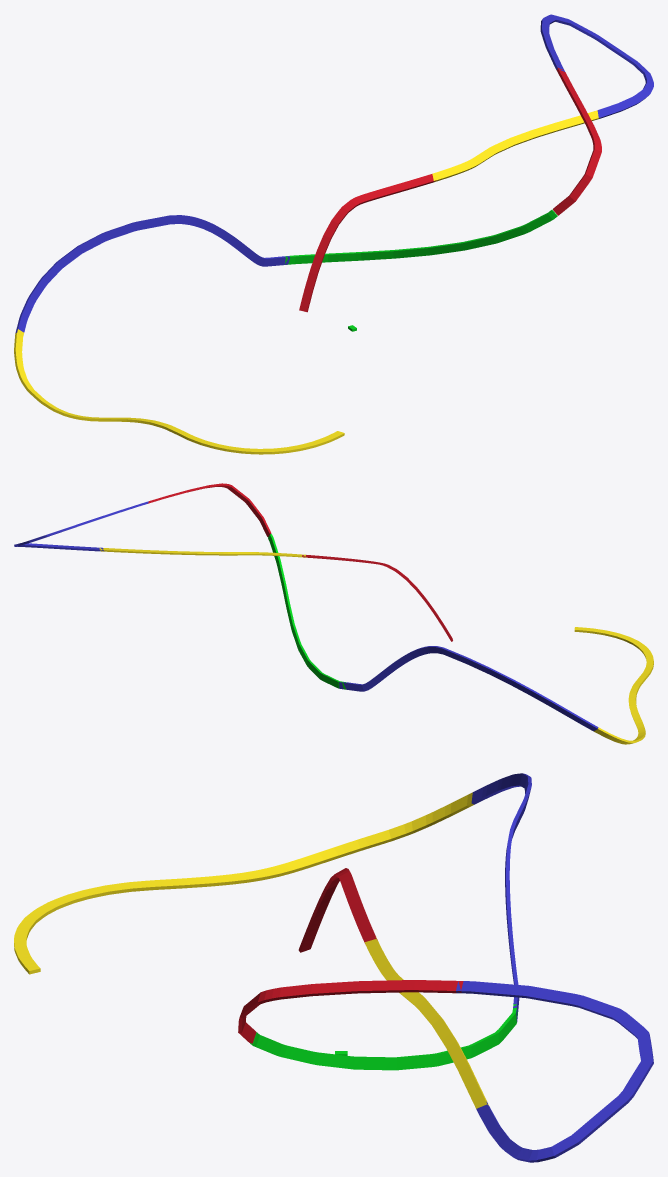
File: Szines_palya_terben_szele_nelkul_004.dae
3 views of the same model, one above another, from view 1: azimuth 30°, elevation 25°; view 2: azimuth 150°, elevation 25°; view 3: azimuth 270°, elevation 25° (orthographic). The views are drawn at different scales.
Parts seen in each view (by area): view 1: Cube.006, Cube.007, Cube.005, Cube.001, Cube.003, Cube.002, Cube.004; view 2: Cube.006, Cube.007, Cube.005, Cube.002, Cube.003, Cube.004, Cube.001; view 3: Cube.007, Cube.003, Cube.005, Cube.004, Cube.002, Cube.006, Cube.001.
Boxes of the visible parts, bbox=[...] form: Cube.006: bbox=[15, 215, 290, 333]; Cube.007: bbox=[14, 329, 344, 454]; Cube.005: bbox=[284, 209, 557, 264]; Cube.001: bbox=[299, 174, 436, 312]; Cube.003: bbox=[540, 14, 653, 118]; Cube.002: bbox=[432, 110, 600, 182]; Cube.004: bbox=[553, 67, 601, 215]; Cube.006: bbox=[339, 646, 598, 731]; Cube.007: bbox=[574, 627, 653, 744]; Cube.005: bbox=[268, 534, 346, 689]; Cube.002: bbox=[99, 548, 306, 557]; Cube.003: bbox=[14, 501, 148, 551]; Cube.004: bbox=[148, 483, 271, 536]; Cube.001: bbox=[302, 555, 452, 641]; Cube.007: bbox=[14, 792, 473, 974]; Cube.003: bbox=[456, 981, 653, 1162]; Cube.005: bbox=[250, 1004, 517, 1070]; Cube.004: bbox=[238, 980, 463, 1043]; Cube.002: bbox=[364, 936, 488, 1108]; Cube.006: bbox=[471, 773, 531, 1021]; Cube.001: bbox=[298, 868, 377, 952].
Size of the model in its own units: 54.29 by 30.19 by 14.12.
